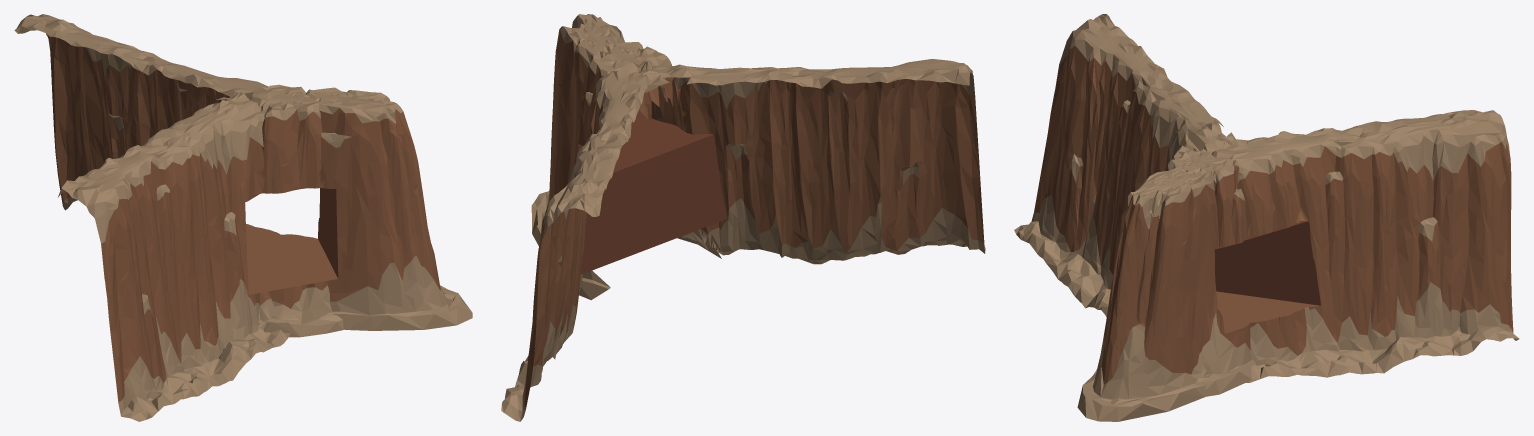
Rendered from LD 2 - Train track shortcut 1.fbx.
3 renders of one model, left to right at view 1: azimuth 30°, elevation 25°; view 2: azimuth 150°, elevation 25°; view 3: azimuth 270°, elevation 25°, orthographic. The views are drawn at different scales.
Parts seen in each view (by area): view 1: SM_Env_Cliff_Cap_01.001; view 2: SM_Env_Cliff_Cap_01.001; view 3: SM_Env_Cliff_Cap_01.001.
Part boxes in pixels (x1,y1,x2,y2): SM_Env_Cliff_Cap_01.001: [14, 14, 472, 421]; SM_Env_Cliff_Cap_01.001: [501, 14, 985, 421]; SM_Env_Cliff_Cap_01.001: [1014, 14, 1519, 421].
Size of the model in its own units: 7406 by 4176 by 8190.
